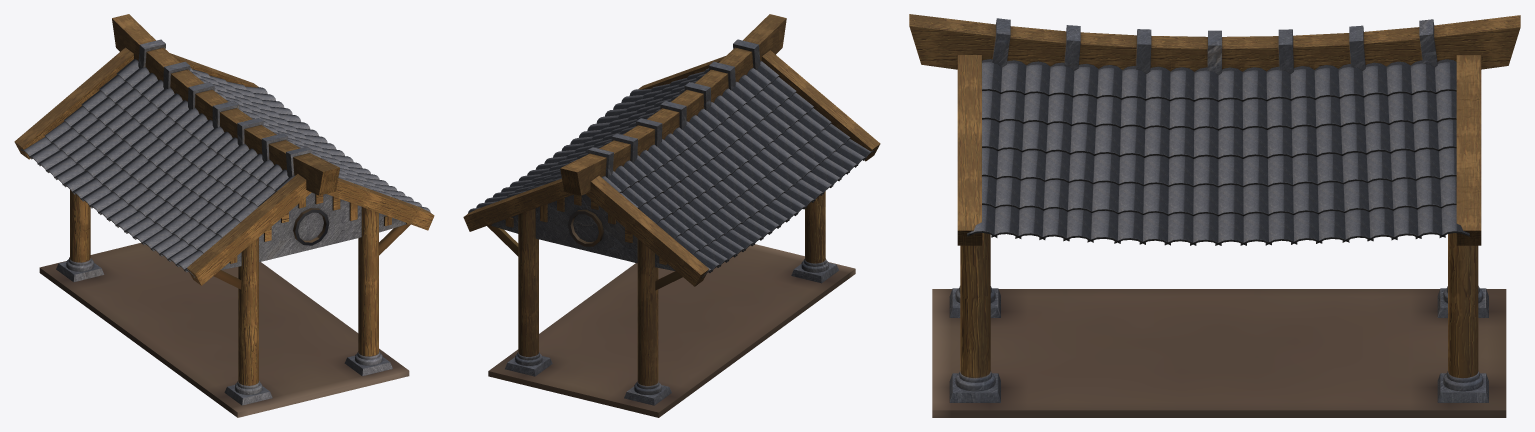
The model's file is Nhacua.fbx.
3 views of the same model, side by side, from view 1: azimuth 30°, elevation 25°; view 2: azimuth 150°, elevation 25°; view 3: azimuth 270°, elevation 25° (orthographic). The views are drawn at different scales.
Visible parts, largest first — view 1: Cube.008, Cylinder.003, Cylinder.002, Cylinder.001; view 2: Cube.008, Cylinder.003, Cylinder.002, Cylinder.001; view 3: Cube.008, Cylinder.003.
Part boxes in pixels (x1,y1,x2,y2): Cube.008: [14, 14, 434, 285]; Cylinder.003: [39, 190, 409, 417]; Cylinder.002: [221, 192, 406, 269]; Cylinder.001: [135, 185, 410, 289]; Cube.008: [463, 14, 880, 286]; Cylinder.003: [488, 191, 855, 417]; Cylinder.002: [491, 194, 675, 271]; Cylinder.001: [487, 192, 752, 290]; Cube.008: [909, 14, 1520, 245]; Cylinder.003: [932, 233, 1506, 417].
Bounding box in the file's own units: 1407 × 1297 × 2131.
2 materials, 2 textured.
